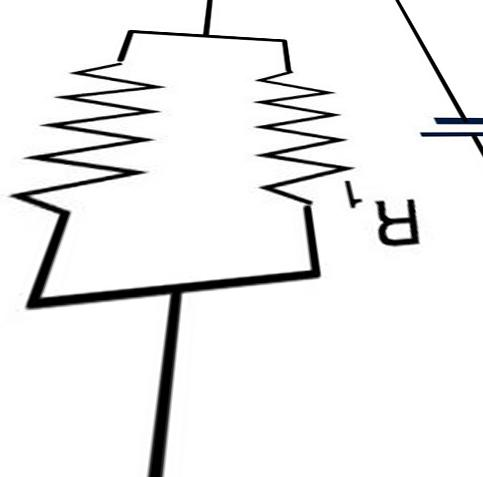resistor: (9, 56, 173, 216), (243, 56, 353, 210)
